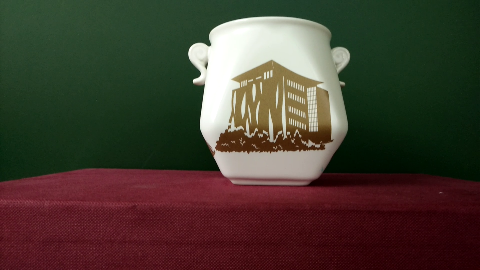library: (222, 66, 327, 148)
